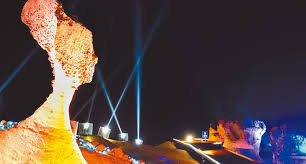yehliu: (13, 1, 112, 90)
